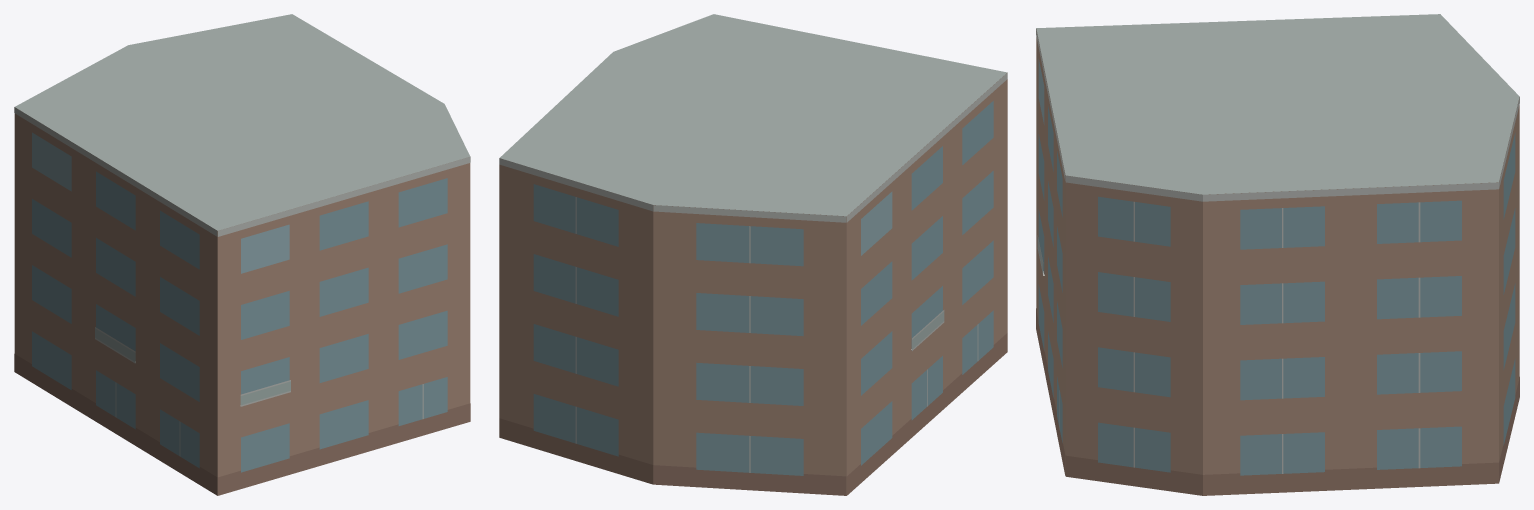
Rendered from survey-upis-32482015.glb.
The picture shows the model from 3 angles, left to right: view 1: azimuth 30°, elevation 25°; view 2: azimuth 150°, elevation 25°; view 3: azimuth 270°, elevation 25°; orthographic projection. The views are drawn at different scales.
Visible parts, largest first — view 1: survey-upis-32482015.tmp; view 2: survey-upis-32482015.tmp; view 3: survey-upis-32482015.tmp.
Boxes of the visible parts, bbox=[...] form: survey-upis-32482015.tmp: bbox=[14, 14, 470, 495]; survey-upis-32482015.tmp: bbox=[499, 14, 1007, 495]; survey-upis-32482015.tmp: bbox=[1036, 14, 1519, 495].
Size of the model in its own units: 13.45 by 10.45 by 15.21.
